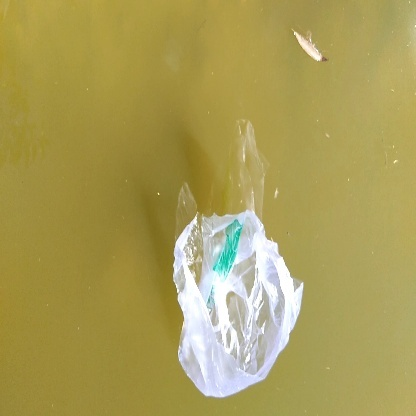plastic-bag: (167, 203, 307, 396)
